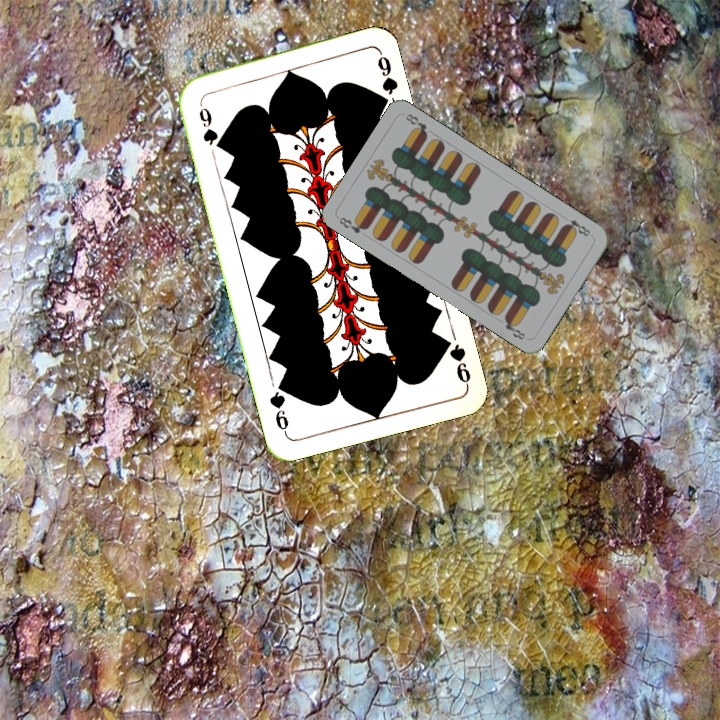E8: (335, 213, 370, 236), (560, 215, 593, 239)
G9: (438, 333, 474, 388), (194, 96, 224, 152)
